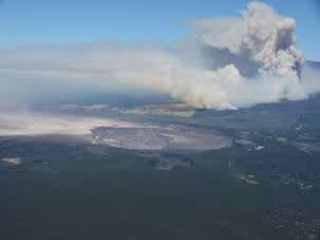smoke: (180, 10, 311, 103)
